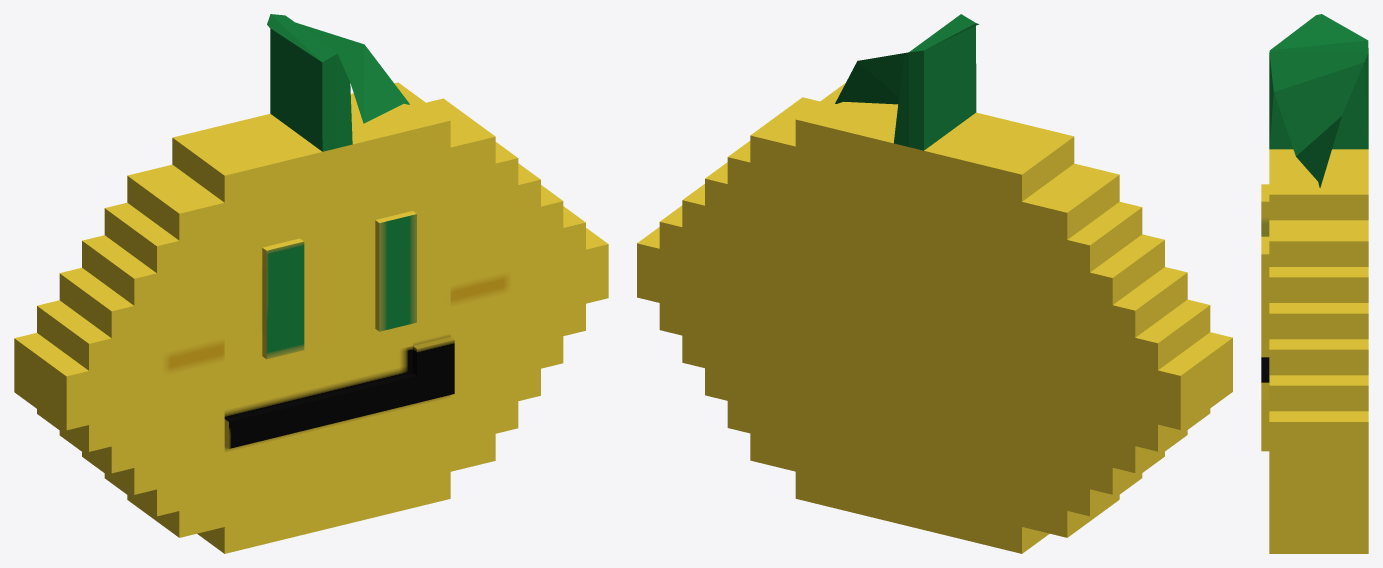
Rendered from laymon-lemon.glb.
3 renders of one model, left to right at view 1: azimuth 30°, elevation 25°; view 2: azimuth 150°, elevation 25°; view 3: azimuth 270°, elevation 25°, orthographic. The views are drawn at different scales.
Visible parts, largest first — view 1: Cube; view 2: Cube; view 3: Cube.
Part boxes in pixels (<box>): Cube: <box>14,14,608,553</box>; Cube: <box>637,14,1232,553</box>; Cube: <box>1261,14,1368,553</box>.
Size of the model in its own units: 2.4 by 2.08 by 0.4326.
Materials: 1 (1 with a texture image).
